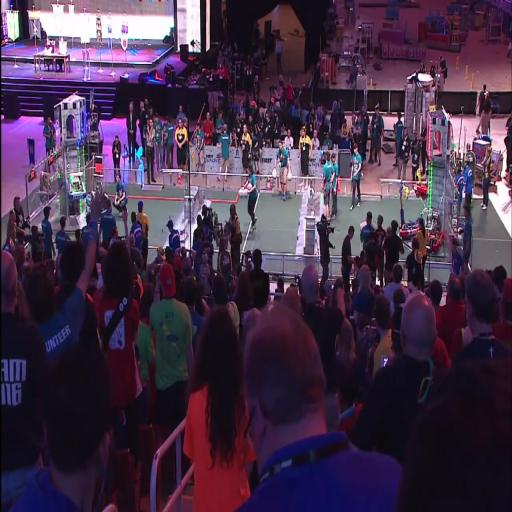robot: (86, 151, 110, 216), (396, 178, 422, 238), (420, 208, 445, 252), (64, 169, 88, 202), (411, 172, 429, 203)
